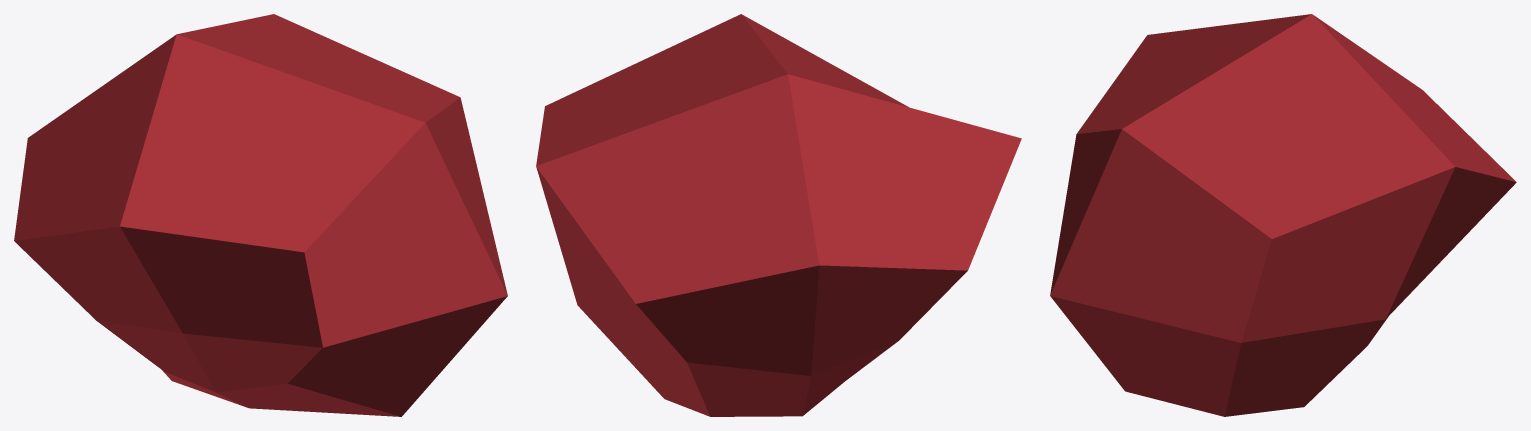
File: BushBerries_Crop.glb
3 renders of one model, left to right at view 1: azimuth 30°, elevation 25°; view 2: azimuth 150°, elevation 25°; view 3: azimuth 270°, elevation 25°, orthographic. The views are drawn at different scales.
Visible parts, largest first — view 1: BushBerries_Crop.obj; view 2: BushBerries_Crop.obj; view 3: BushBerries_Crop.obj.
Boxes of the visible parts, x1,y1,x2,y2 form: BushBerries_Crop.obj: [14, 14, 507, 416]; BushBerries_Crop.obj: [536, 14, 1021, 416]; BushBerries_Crop.obj: [1050, 14, 1516, 416].
Size of the model in its own units: 0.169 by 0.1317 by 0.1661.
